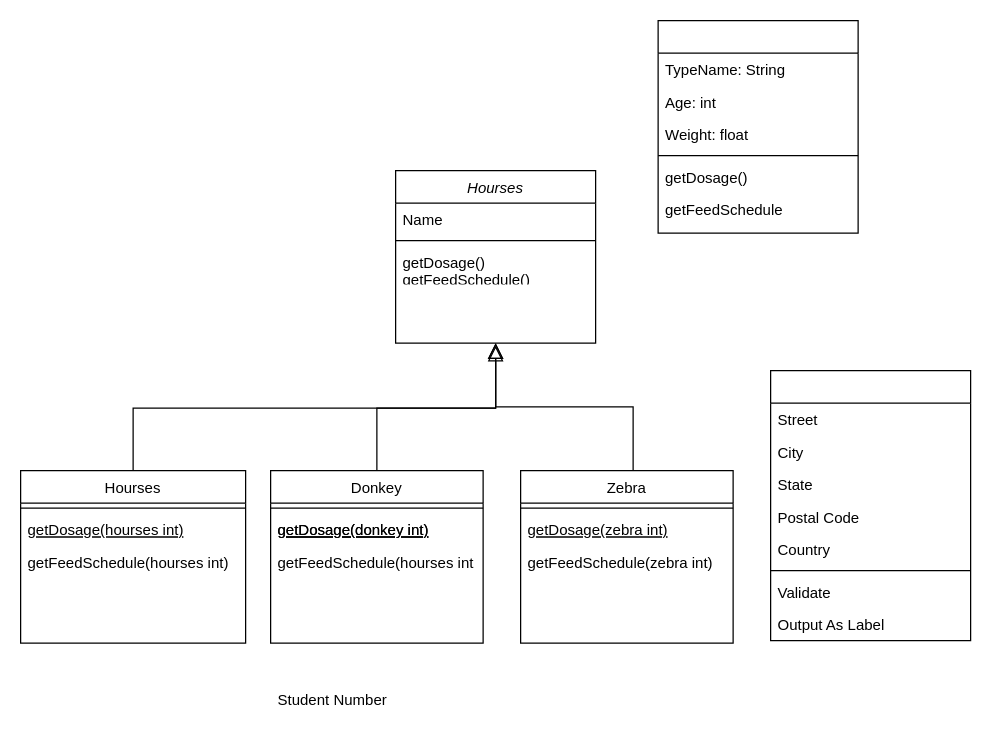
Image size: 991x736. Some labels were removed from this diagram. The box of each missing label's shape, as (x1, y1, x2, y2) in pixels:
Address: (769, 369, 971, 641)
Animals: (657, 19, 858, 233)
